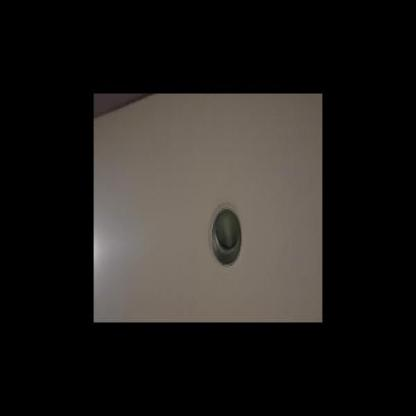light_off: (203, 185, 250, 277)
